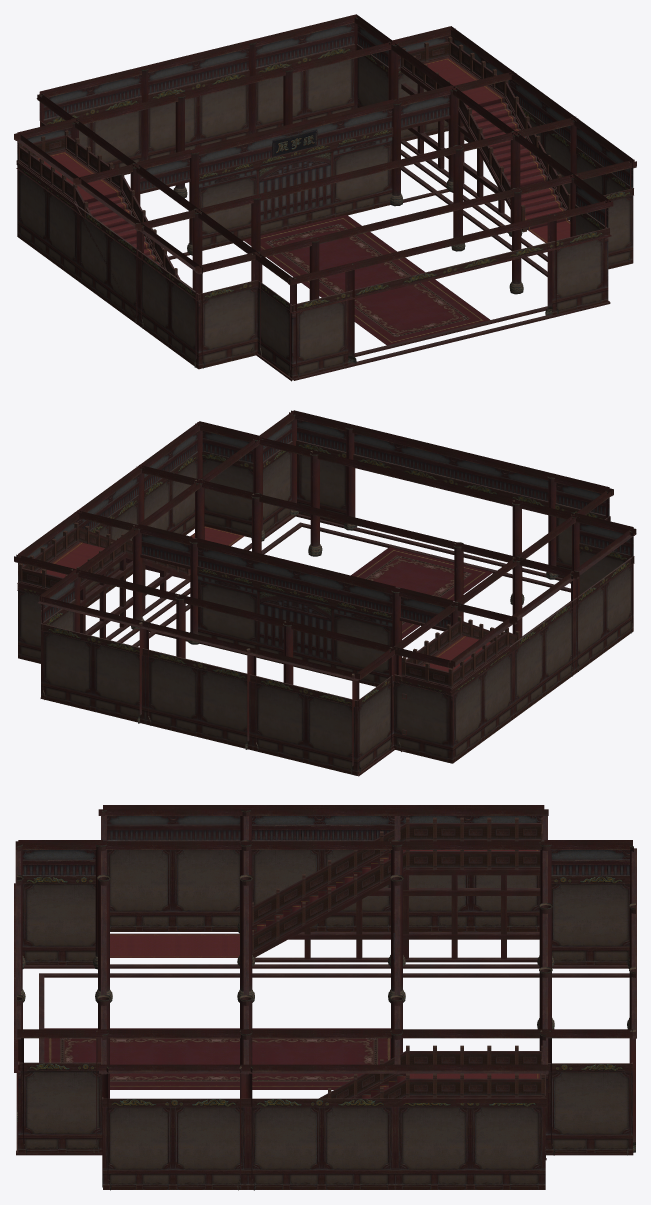
Rendered from Hall.fbx.
3 renders of one model, top to bottom at view 1: azimuth 30°, elevation 25°; view 2: azimuth 150°, elevation 25°; view 3: azimuth 270°, elevation 25°, orthographic. The views are drawn at different scales.
Parts seen in each view (by area): view 1: xia_ceng; view 2: xia_ceng; view 3: xia_ceng.
Boxes of the visible parts, <box> form: xia_ceng: <box>14,14,636,381</box>; xia_ceng: <box>14,410,636,776</box>; xia_ceng: <box>14,805,636,1190</box>.
Size of the model in its own units: 1119 by 254 by 1125.
Materials: 1 (1 with a texture image).
